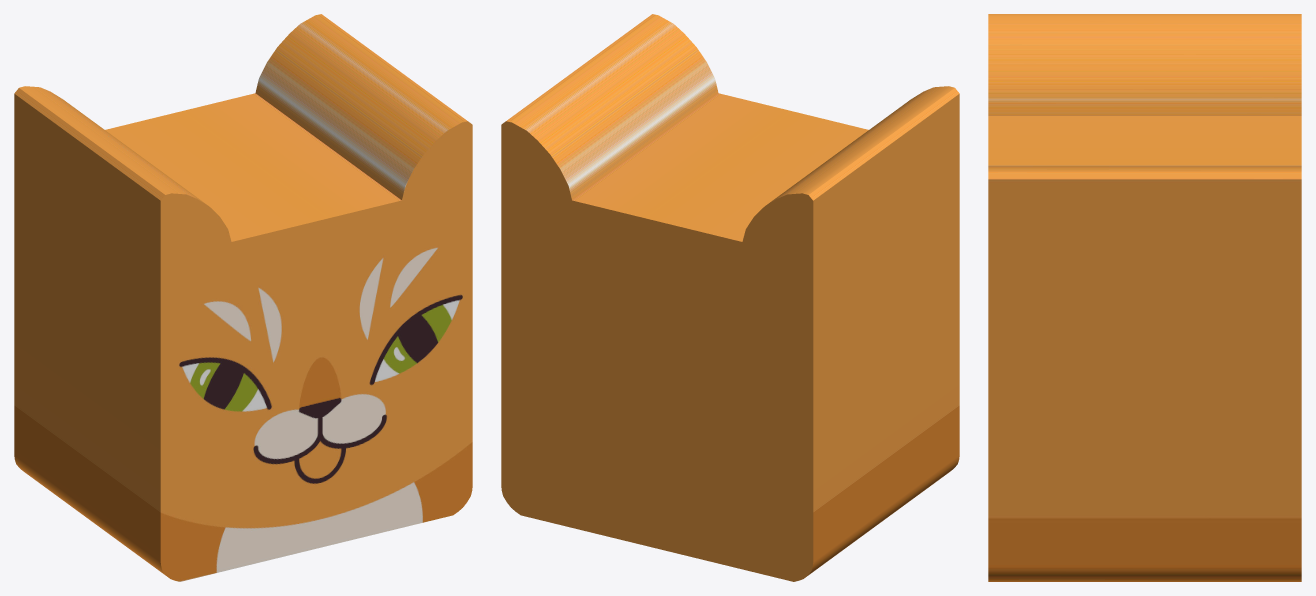
Rendered from Cat.fbx.
The picture shows the model from 3 angles, left to right: view 1: azimuth 30°, elevation 25°; view 2: azimuth 150°, elevation 25°; view 3: azimuth 270°, elevation 25°; orthographic projection. The views are drawn at different scales.
Visible parts, largest first — view 1: cat; view 2: cat; view 3: cat.
Part boxes in pixels (x1,y1,x2,y2): cat: (14,14,472,581); cat: (501,14,959,581); cat: (988,14,1301,581).
Bounding box in the file's own units: 5.36 × 6.41 × 4.36.
1 material, 1 textured.
